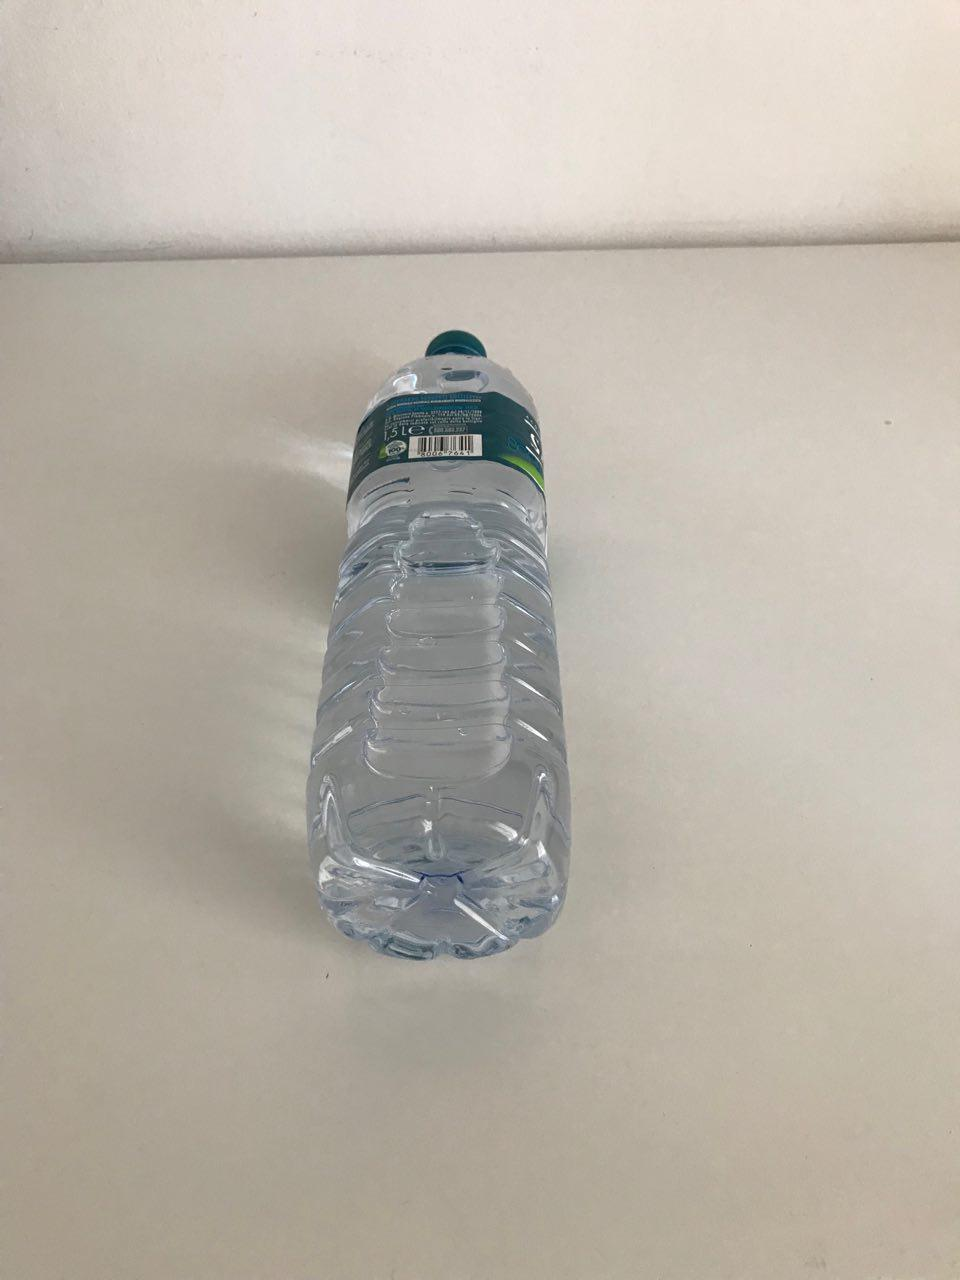san_bernardo: (303, 327, 574, 963)
